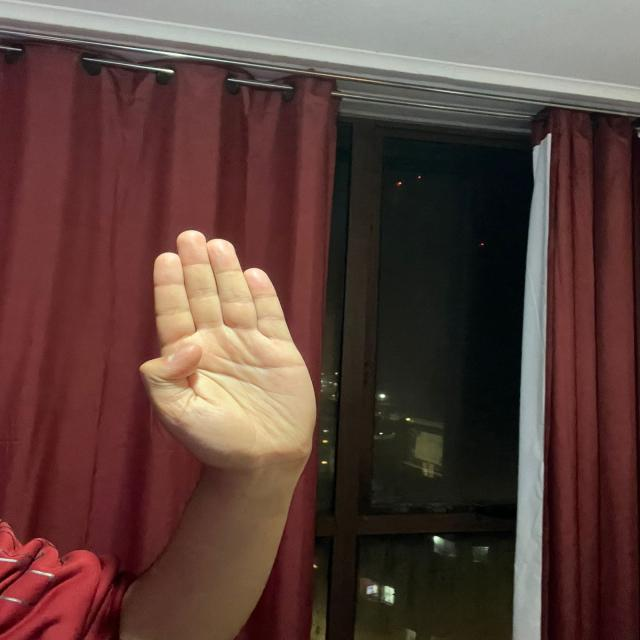B: (135, 224, 329, 479)
